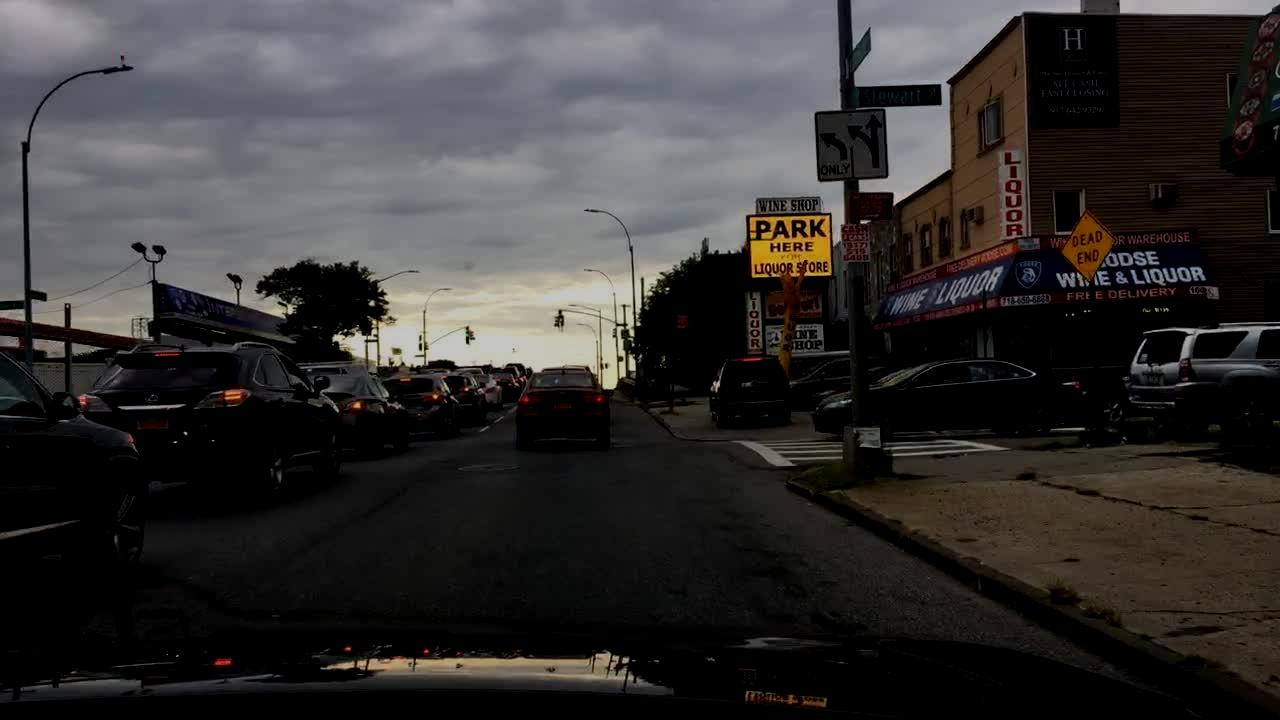lexus: (140, 390, 164, 406)
